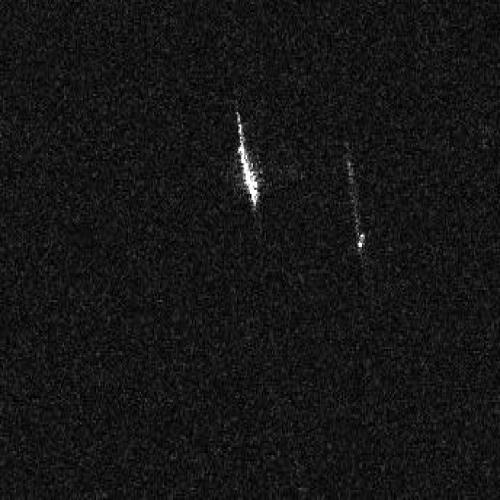ship: (235, 113, 262, 208), (347, 159, 365, 252)
